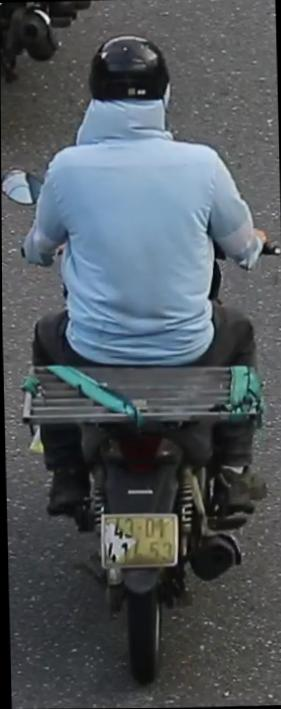LP: (97, 506, 181, 574)
helmet: (83, 27, 178, 165)
